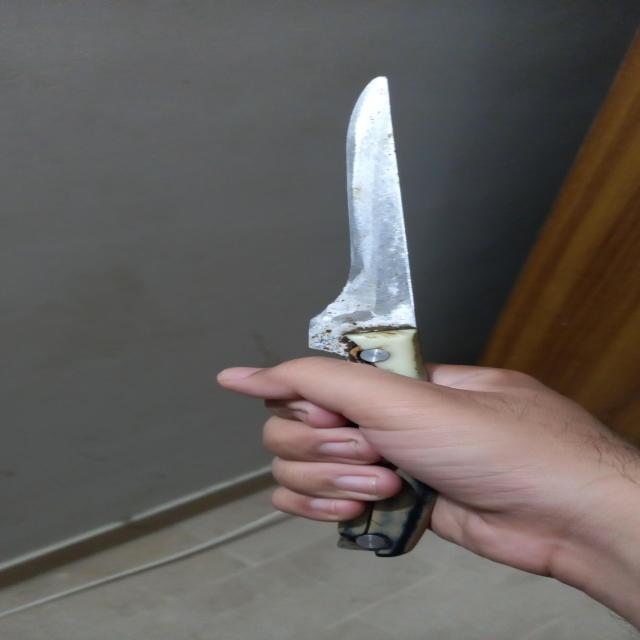Knife: (310, 76, 432, 560)
Person: (210, 354, 640, 640)
